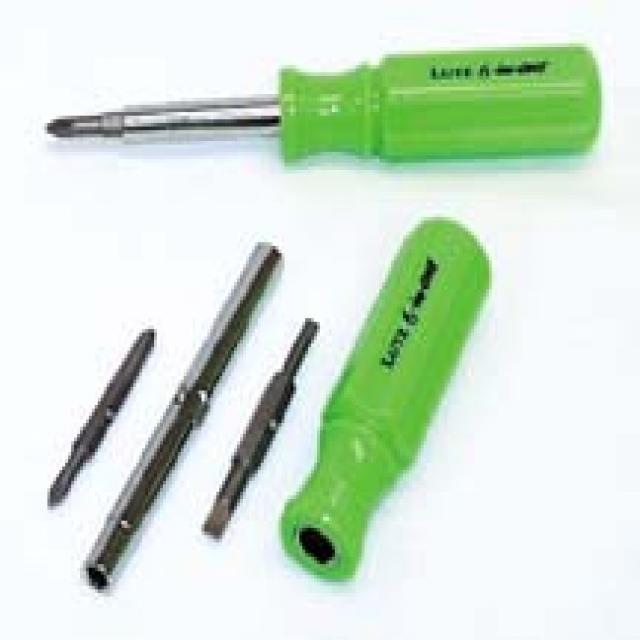screwdriver: (29, 44, 612, 181)
